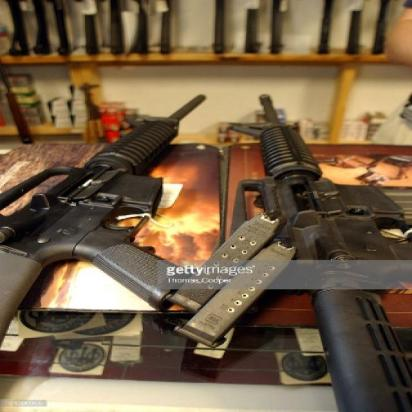Gun: (230, 74, 410, 411), (0, 85, 209, 348)
